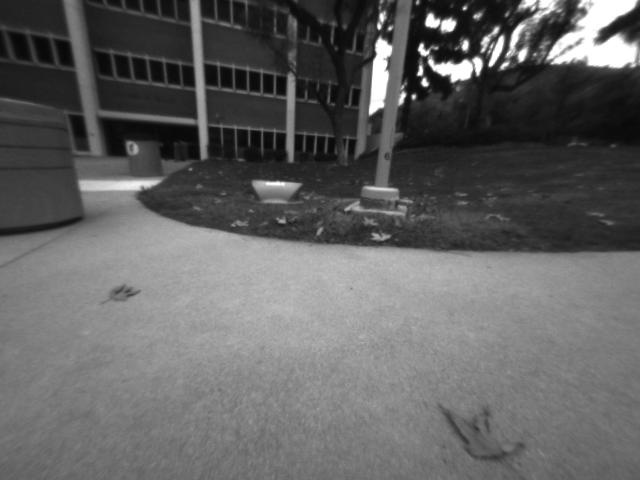trashcan: (127, 138, 165, 186)
